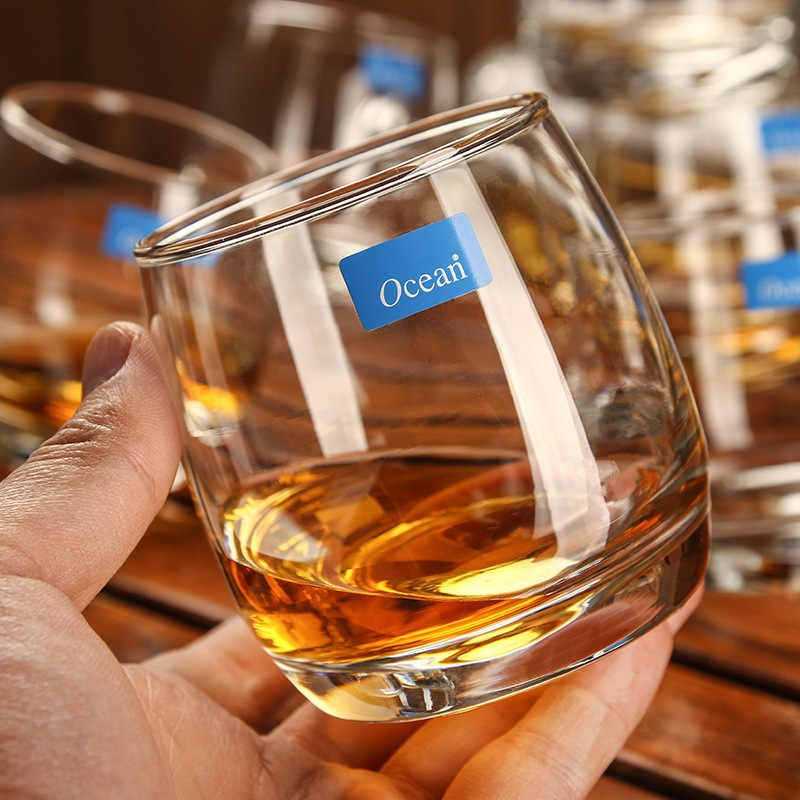whiskey: (134, 94, 721, 721)
